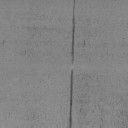surface scratch: (71, 0, 75, 64), (69, 69, 73, 128)
